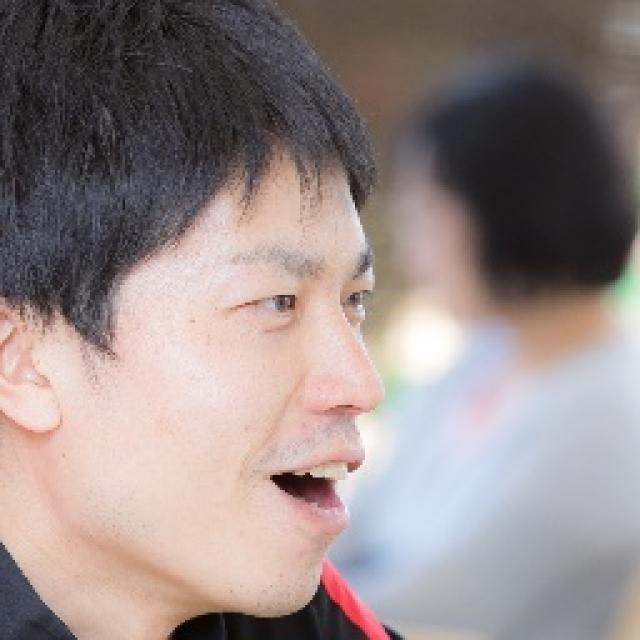earlobe: (0, 296, 65, 434)
